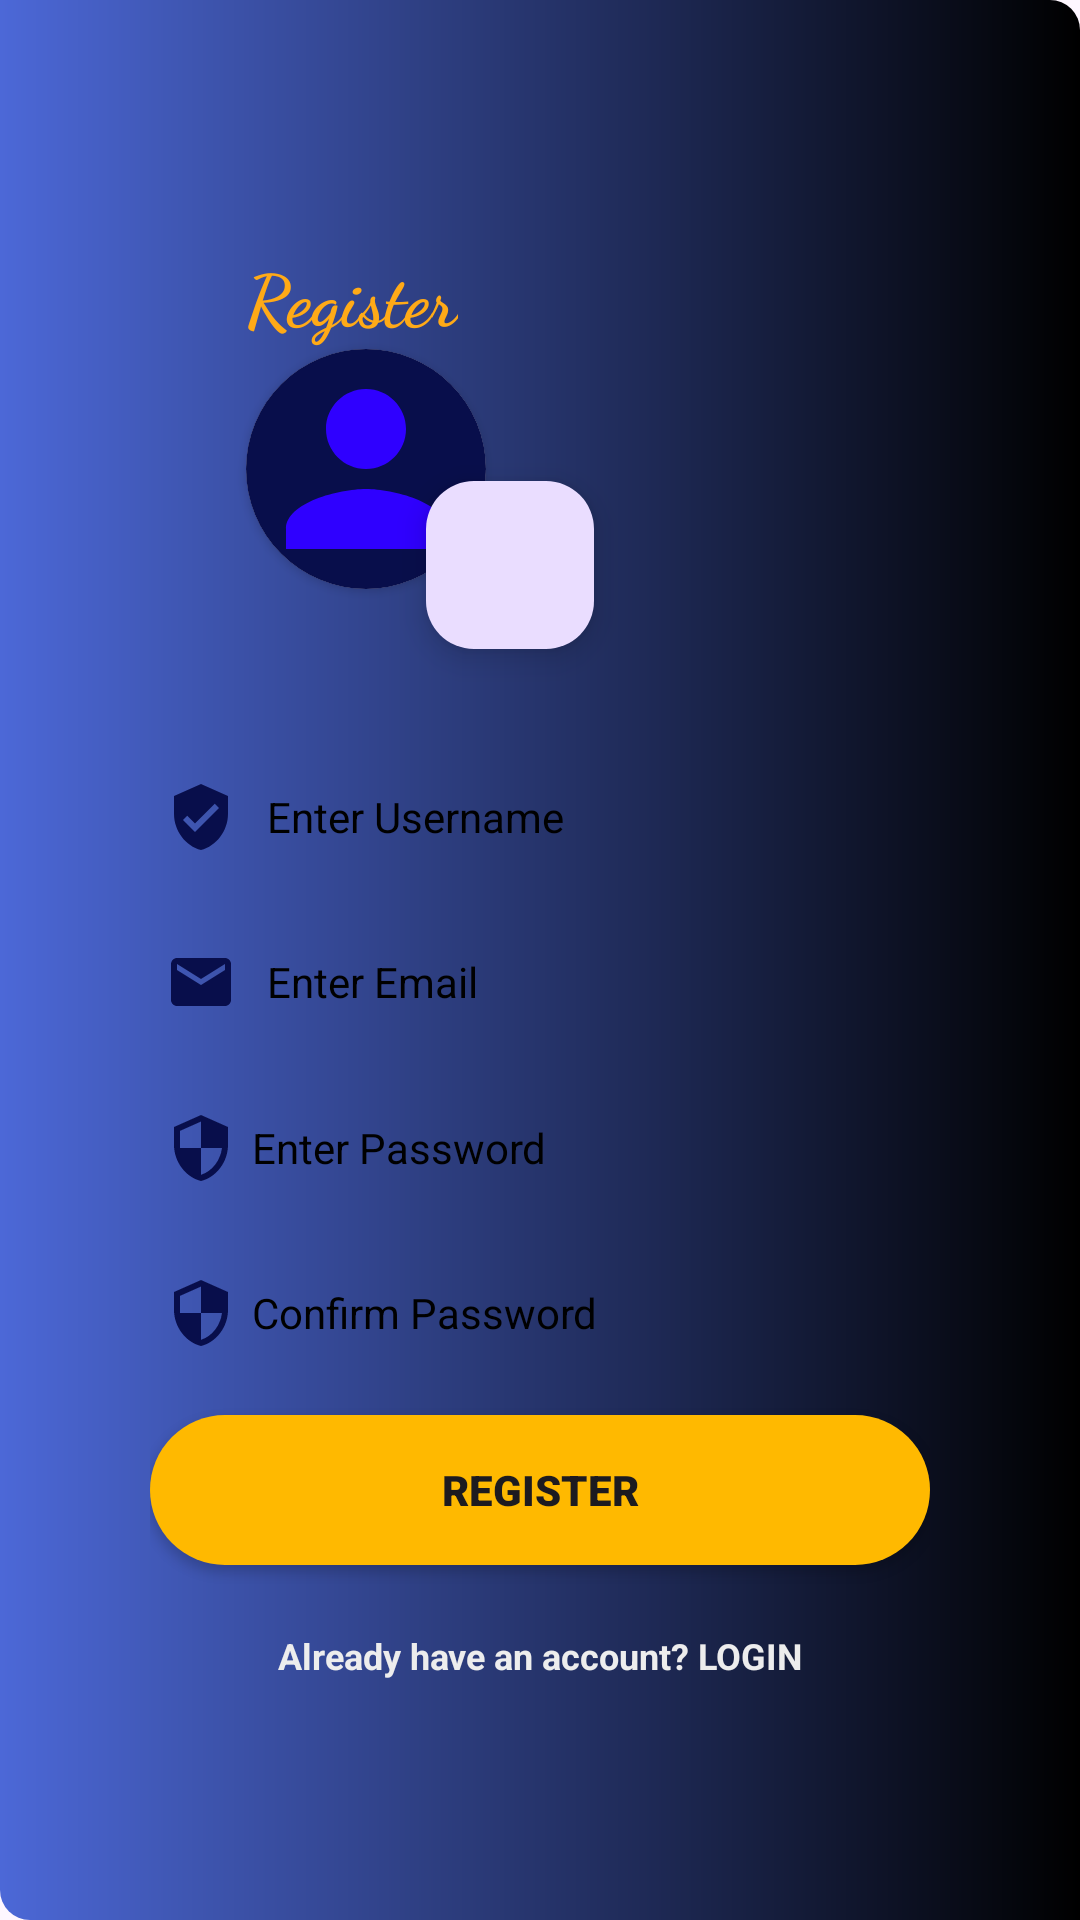

Named icons in this screenshot (1080x1920) and their centers, point (x, y):
person: point (366, 469)
